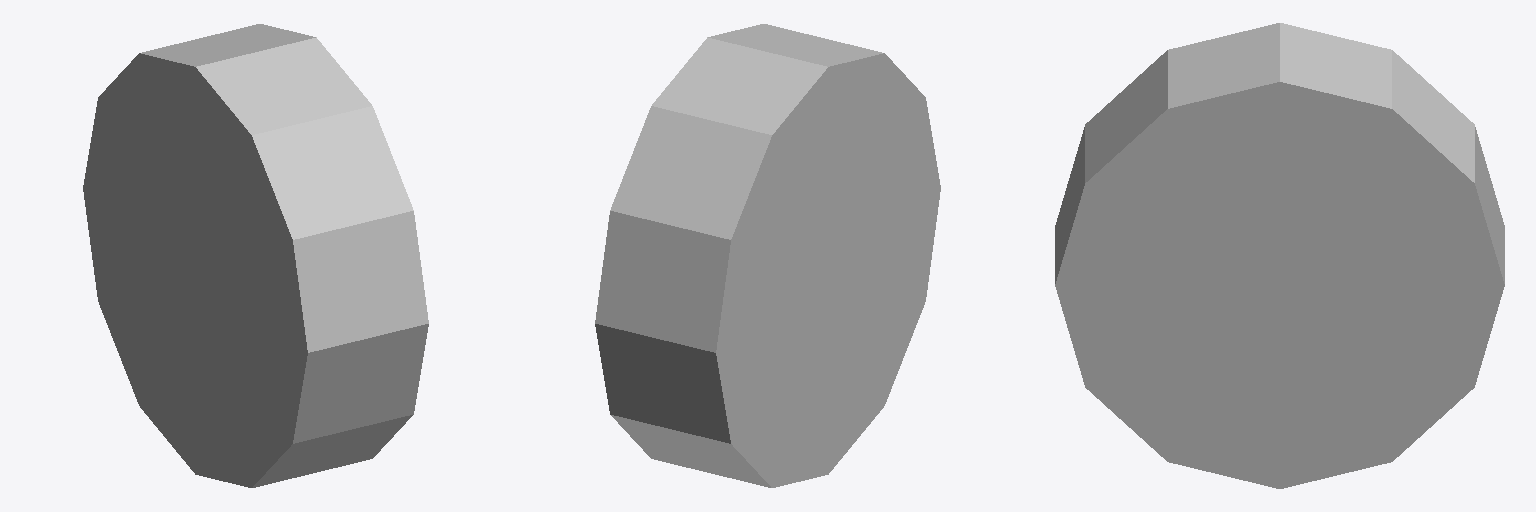
File: wheel_left.obj
3 views of the same model, side by side, from view 1: azimuth 30°, elevation 25°; view 2: azimuth 150°, elevation 25°; view 3: azimuth 270°, elevation 25° (orthographic).
Size of the model in its own units: 0.2248 by 0.7233 by 0.7233.